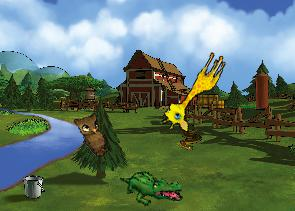crocodile: (119, 165, 184, 210)
giraffe: (158, 44, 229, 137)
owl: (69, 106, 120, 159)
